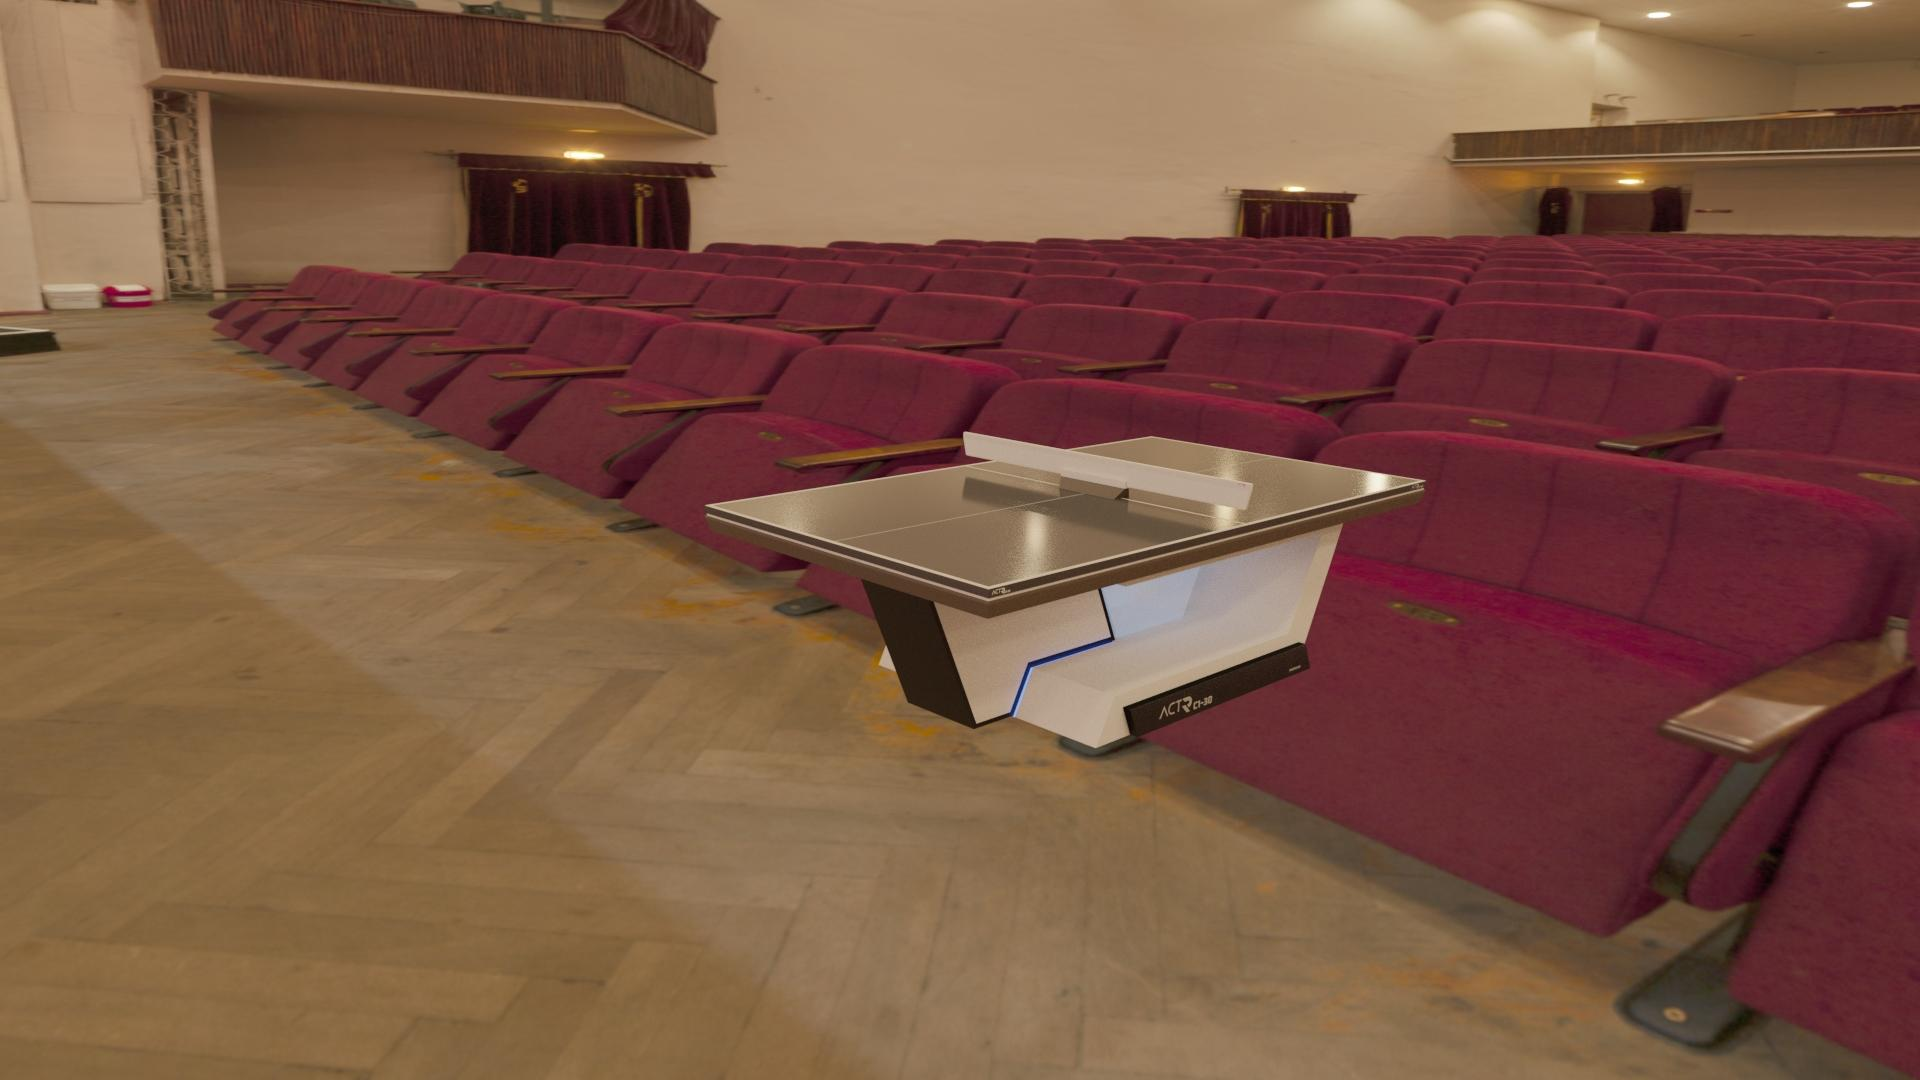table: (712, 438, 1420, 587)
